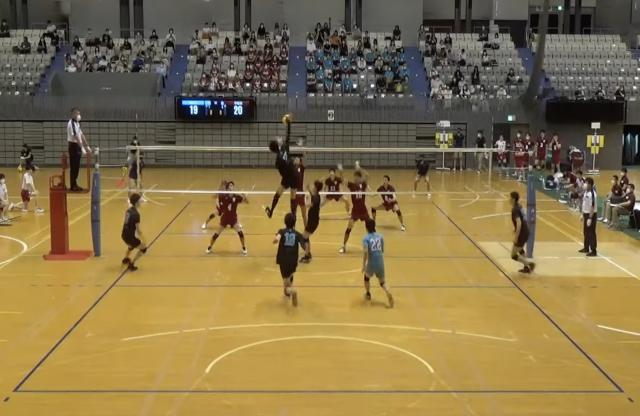spike: (262, 112, 301, 234)
